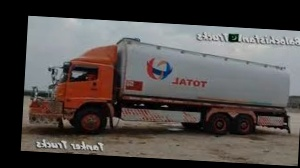truck: (27, 33, 293, 145)
